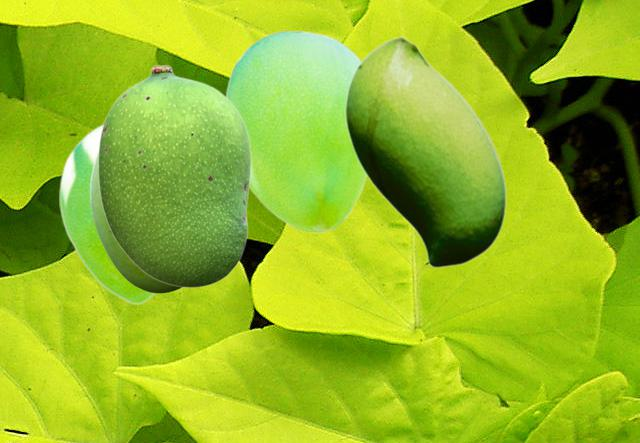green_mango: (344, 35, 505, 267), (97, 64, 250, 287), (223, 30, 368, 231), (59, 122, 158, 304), (89, 148, 184, 292)
